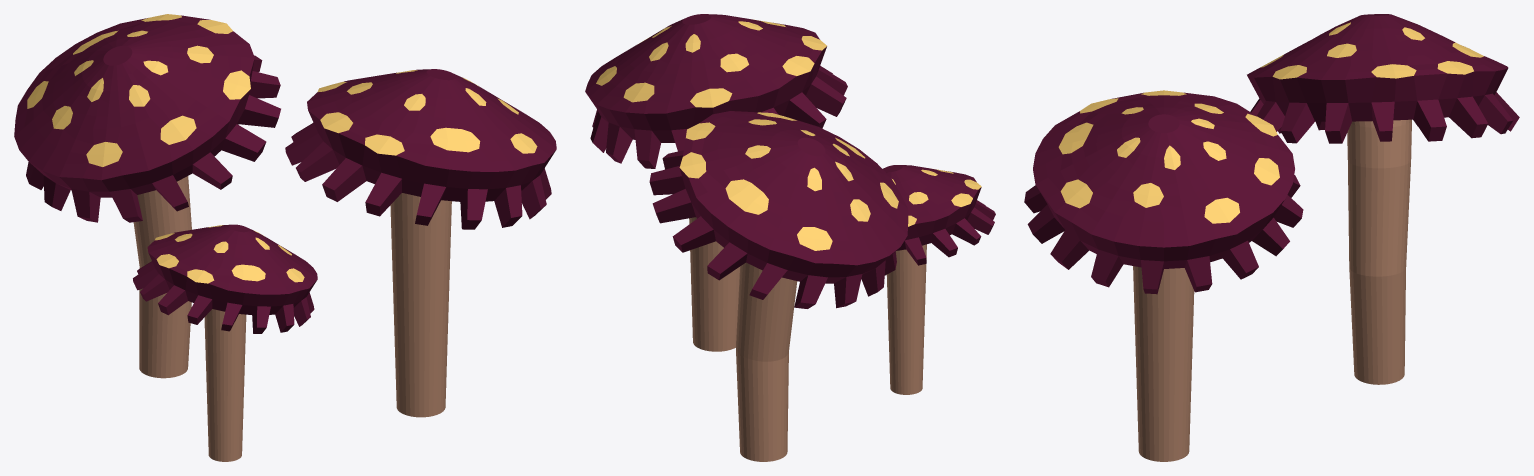
Rendered from mushroom_1_garden.fbx.
3 views of the same model, side by side, from view 1: azimuth 30°, elevation 25°; view 2: azimuth 150°, elevation 25°; view 3: azimuth 270°, elevation 25° (orthographic). The views are drawn at different scales.
Parts seen in each view (by area): view 1: mushroom_1_garden, Cylinder.042, Cylinder.006; view 2: mushroom_1_garden, Cylinder.042, Cylinder.006; view 3: mushroom_1_garden, Cylinder.042, Cylinder.006.
Boxes of the visible parts, x1=… form: mushroom_1_garden: x1=14, y1=15, x2=556, y2=333; Cylinder.042: x1=133, y1=176, x2=451, y2=461; Cylinder.006: x1=27, y1=14, x2=537, y2=283; mushroom_1_garden: x1=585, y1=14, x2=995, y2=308; Cylinder.042: x1=689, y1=217, x2=926, y2=461; Cylinder.006: x1=596, y1=19, x2=981, y2=250; mushroom_1_garden: x1=1024, y1=14, x2=1519, y2=294; Cylinder.042: x1=1133, y1=119, x2=1411, y2=461; Cylinder.006: x1=1058, y1=22, x2=1483, y2=223.
Size of the model in its own units: 59.16 by 46.23 by 60.91.
